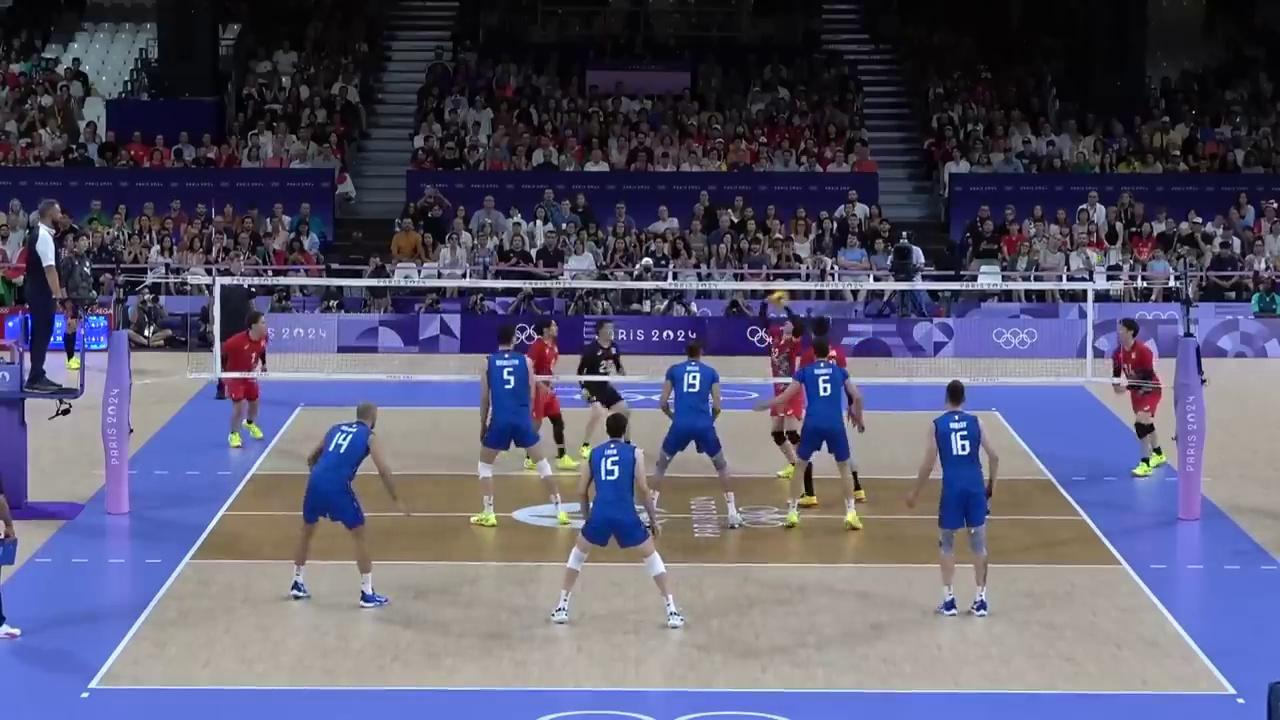ball: (767, 292, 792, 307)
